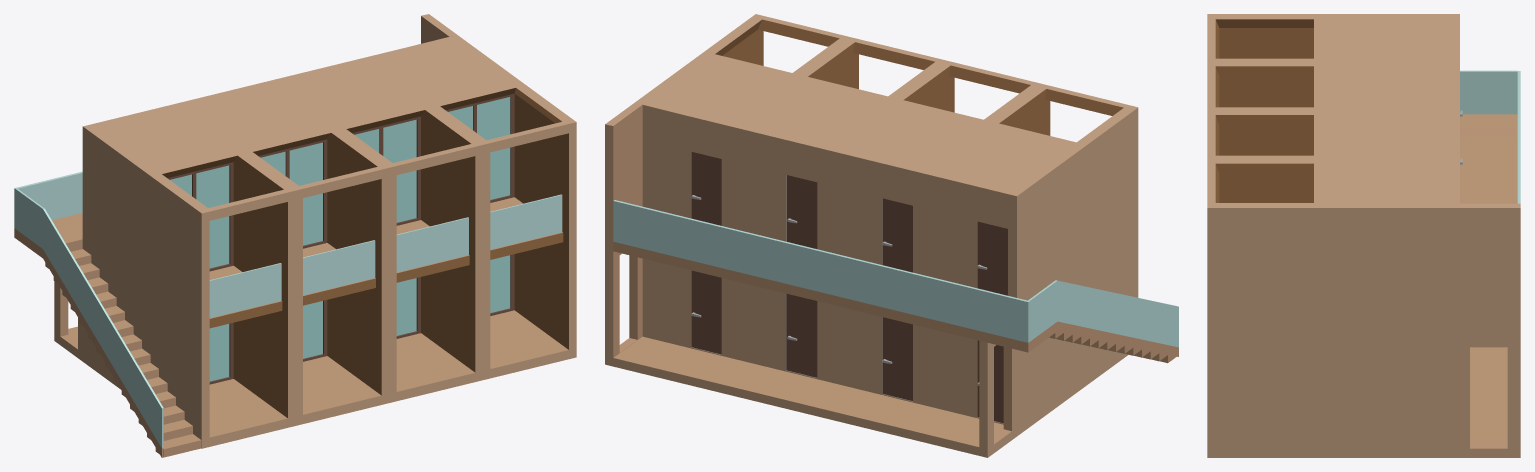
Rendered from Hotel_04.fbx.
The picture shows the model from 3 angles, left to right: view 1: azimuth 30°, elevation 25°; view 2: azimuth 150°, elevation 25°; view 3: azimuth 270°, elevation 25°; orthographic projection. The views are drawn at different scales.
Visible parts, largest first — view 1: Hotel_04; view 2: Hotel_04; view 3: Hotel_04.
Part boxes in pixels (bbox=[...]): Hotel_04: bbox=[14, 14, 576, 457]; Hotel_04: bbox=[605, 14, 1178, 457]; Hotel_04: bbox=[1207, 14, 1520, 457].
Bounding box in the file's own units: 1106 × 601 × 682.
